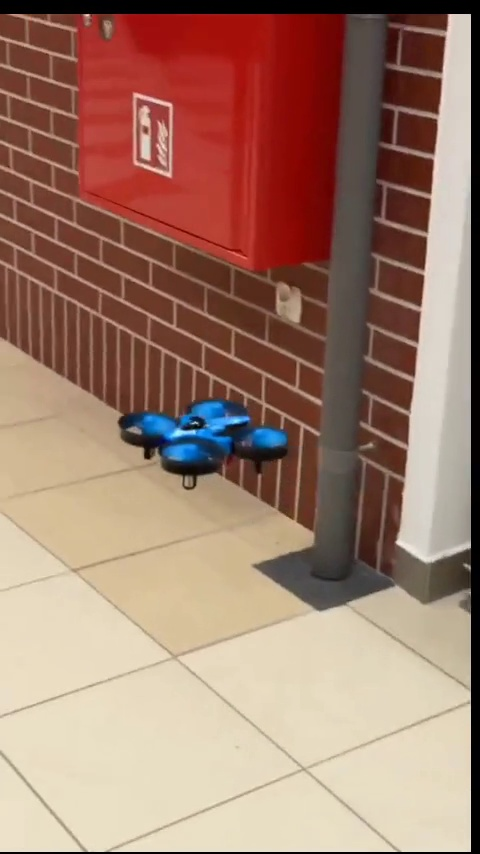drone: (114, 391, 290, 495)
